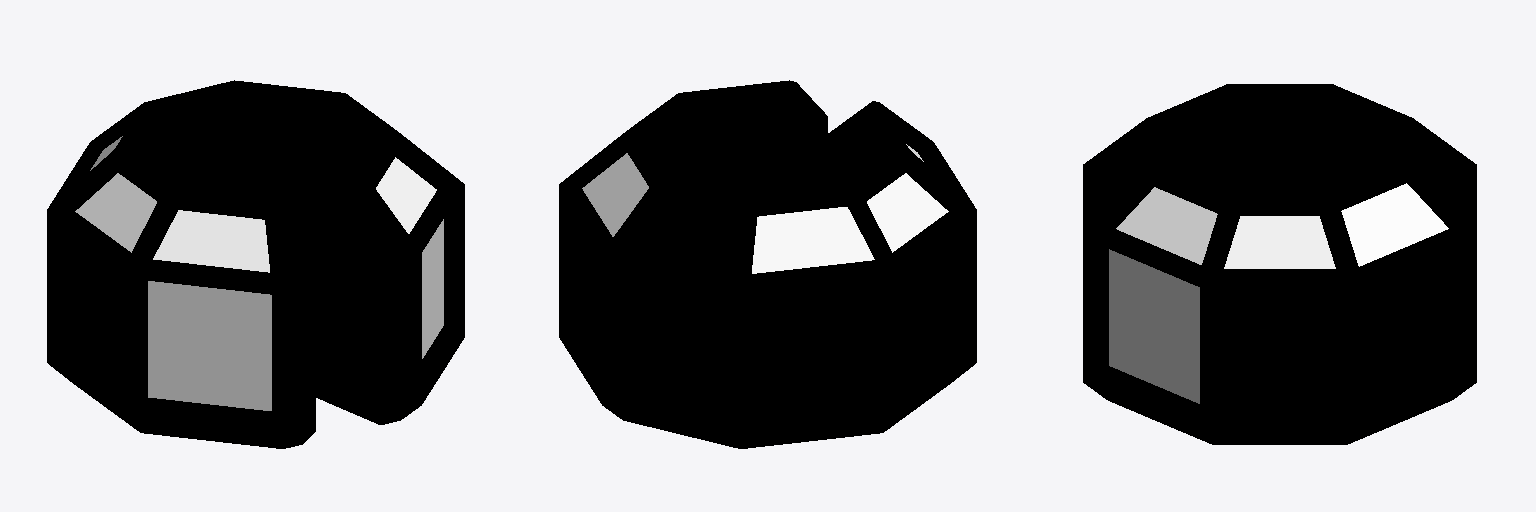
3 views of the same model, side by side, from view 1: azimuth 30°, elevation 25°; view 2: azimuth 150°, elevation 25°; view 3: azimuth 270°, elevation 25° (orthographic).
Visible parts, largest first — view 1: Cube; view 2: Cube; view 3: Cube.
Part boxes in pixels (bbox=[...]): Cube: bbox=[47, 80, 464, 448]; Cube: bbox=[559, 80, 976, 448]; Cube: bbox=[1083, 84, 1476, 444].
Size of the model in its own units: 2 by 1.3 by 2.
Materials: 1 (1 with a texture image).